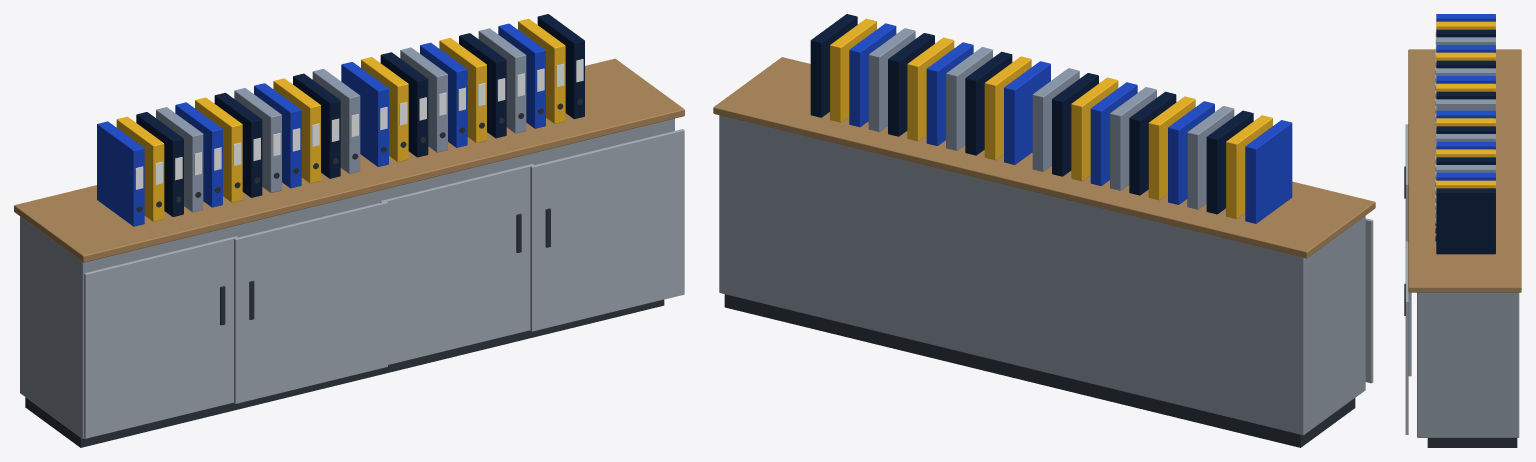
The model's file is binder_cabinet.glb.
3 renders of one model, left to right at view 1: azimuth 30°, elevation 25°; view 2: azimuth 150°, elevation 25°; view 3: azimuth 270°, elevation 25°, orthographic. The views are drawn at different scales.
Visible parts, largest first — view 1: binder_cabinet; view 2: binder_cabinet; view 3: binder_cabinet.
Boxes of the visible parts, x1,y1,x2,y2 form: binder_cabinet: (14, 14, 684, 447); binder_cabinet: (713, 14, 1375, 447); binder_cabinet: (1404, 14, 1521, 447).
Size of the model in its own units: 2.64 by 1.17 by 0.549.
